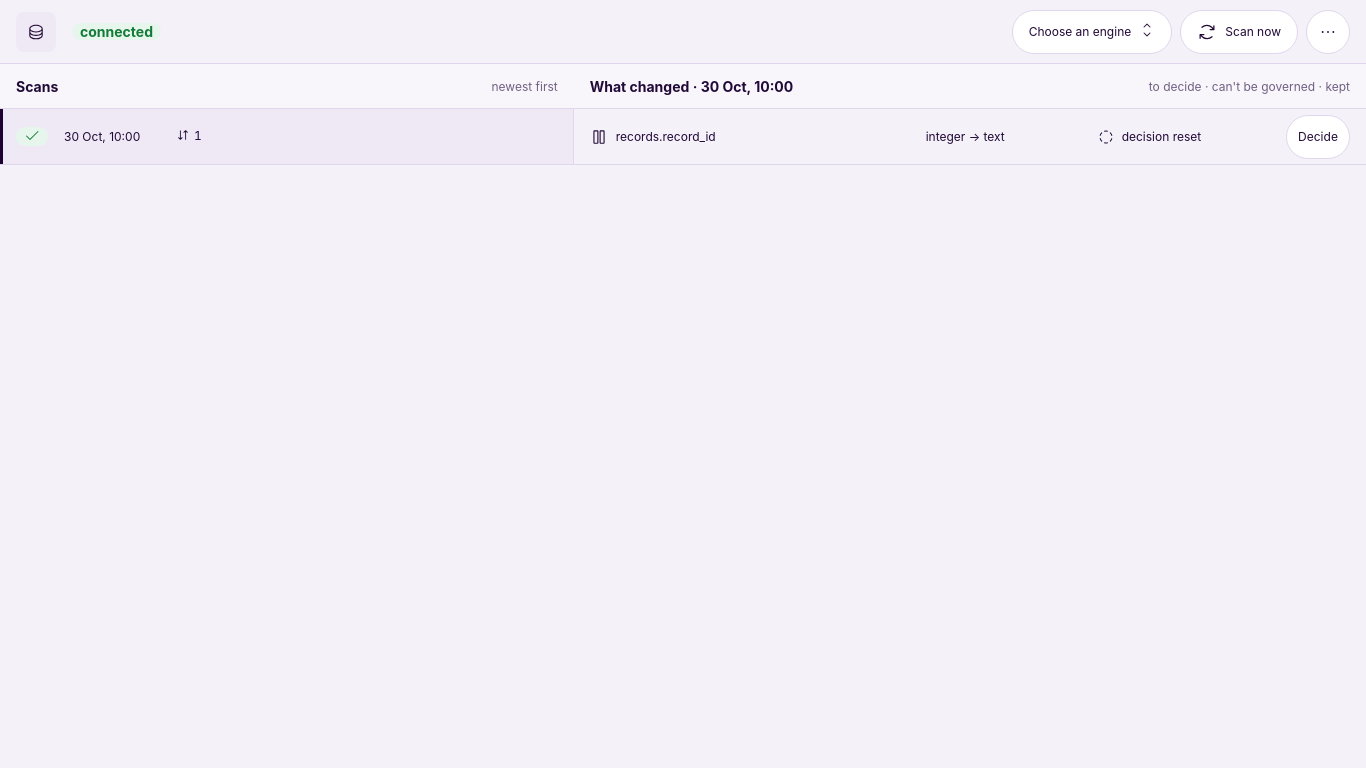
Test: a source scan opens the existing treatment picker for its reset column
The width and height of the screenshot is (1366, 768).
Check: the text "decision reset" is shown, box [1122,129,1201,144]
Click the button with aria-label "Decide records.record_id". click: coordinates (1318, 136)
box: [1286,114,1350,158]
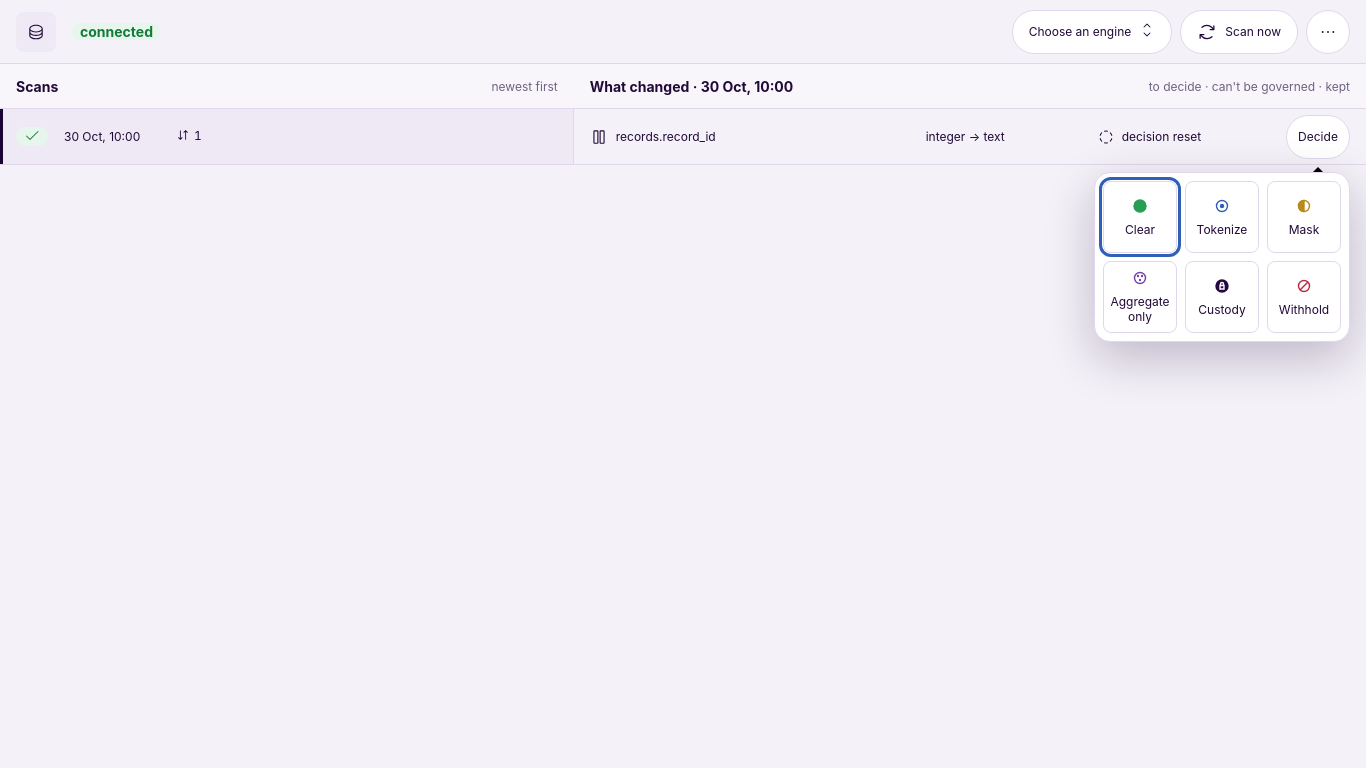
Check: the button "Clear" is shown, box [1103,181,1177,253]
Check: the button "Tokenize" is shown, box [1185,181,1259,253]
